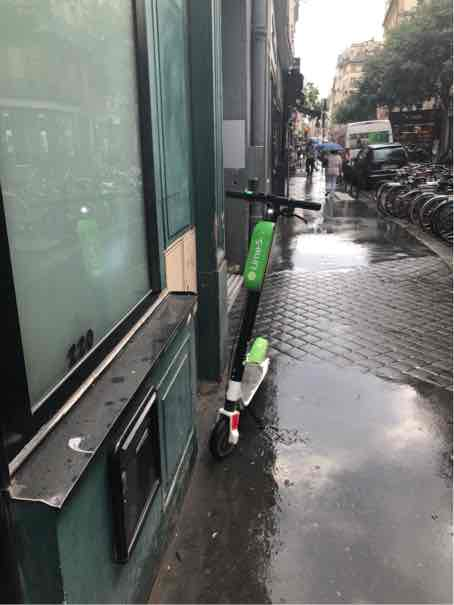scooter: (204, 189, 320, 463)
